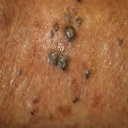Melanoma: (45, 17, 82, 68)
